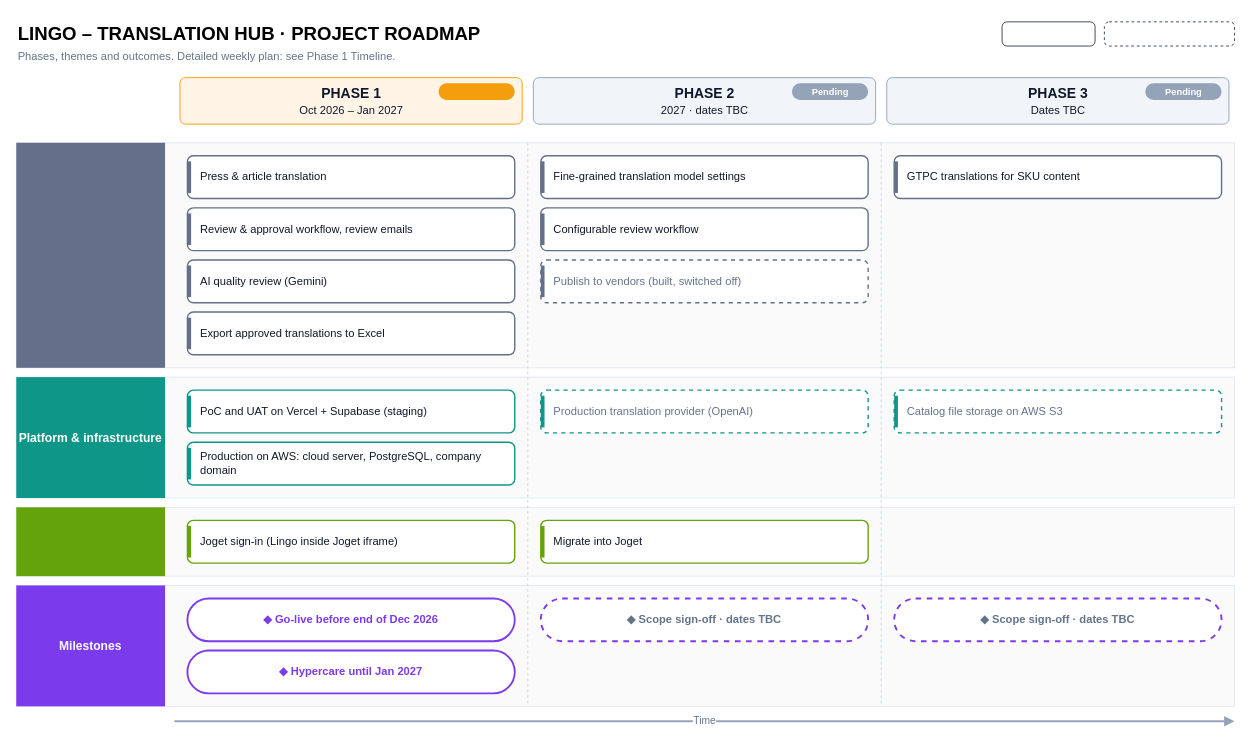
The diagram is 1259 pixels wide and 745 high, and some of its shapes have lost their labels. Each missing label, with the box of its shape:
Candidate / TBC: (1103, 21, 1235, 46)
Committed: (1001, 21, 1095, 46)
In progress: (438, 83, 514, 100)
Integrations: (16, 507, 165, 576)
Product & features: (16, 142, 165, 367)
